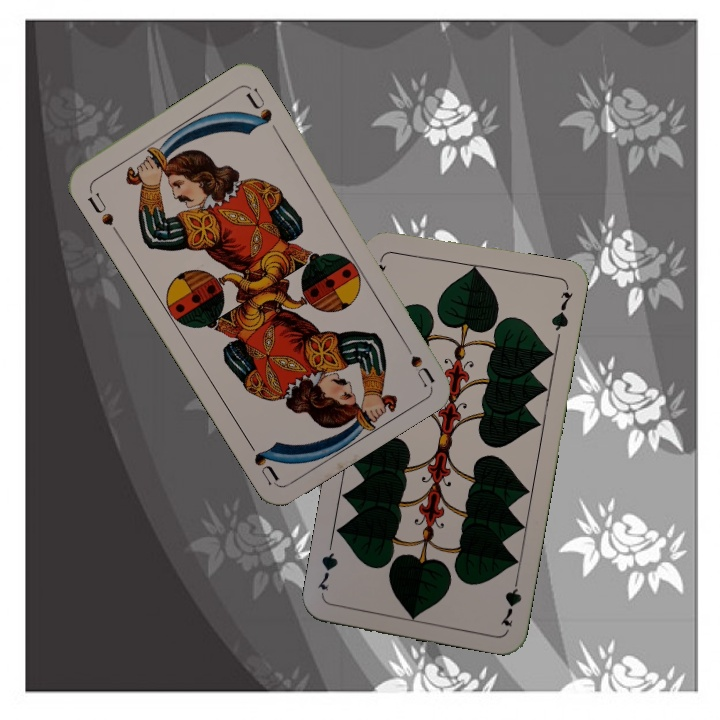G7: (496, 571, 524, 630)
SU: (396, 332, 437, 388), (83, 185, 123, 238)
